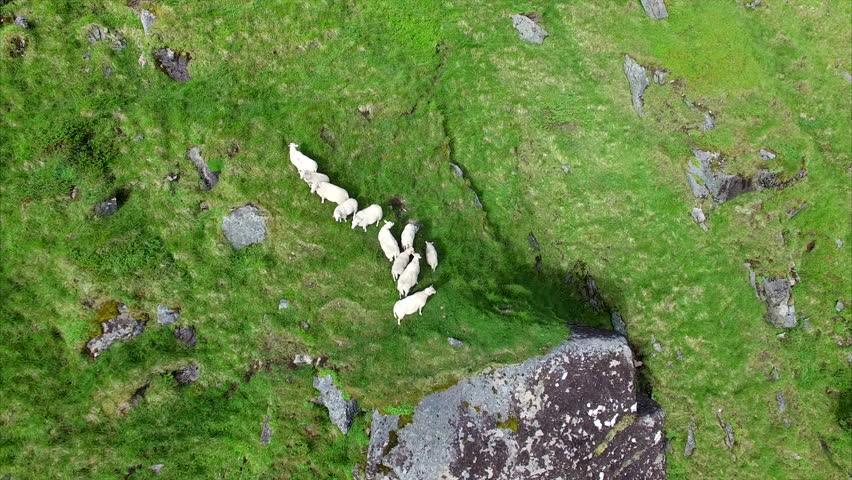sheep: (395, 285, 440, 325), (280, 139, 321, 174), (369, 220, 402, 260), (318, 180, 352, 210), (350, 204, 385, 231), (398, 253, 419, 293), (300, 167, 333, 189), (420, 240, 442, 273), (388, 248, 412, 278), (398, 220, 419, 254), (331, 196, 356, 223)
